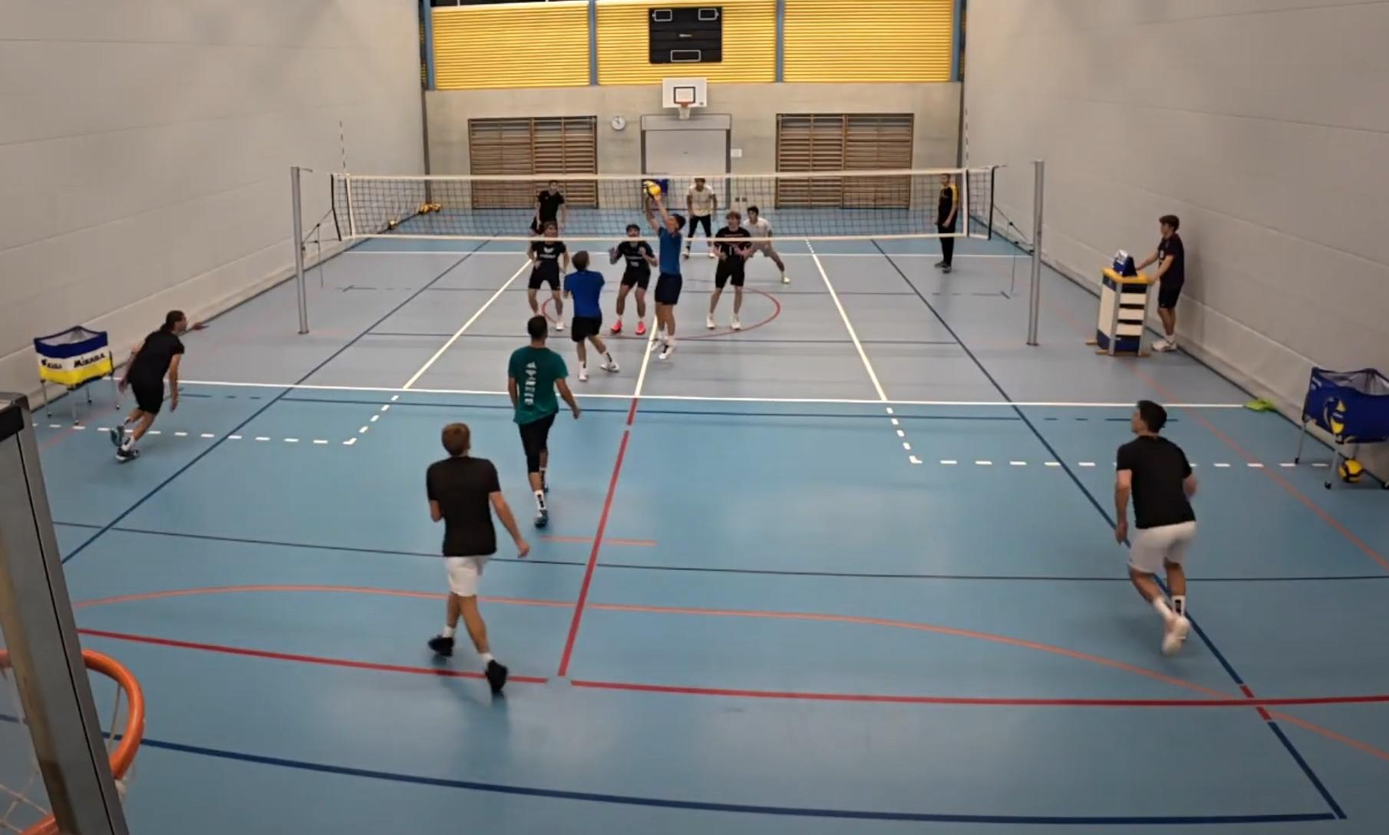alzata: (651, 191, 696, 350)
